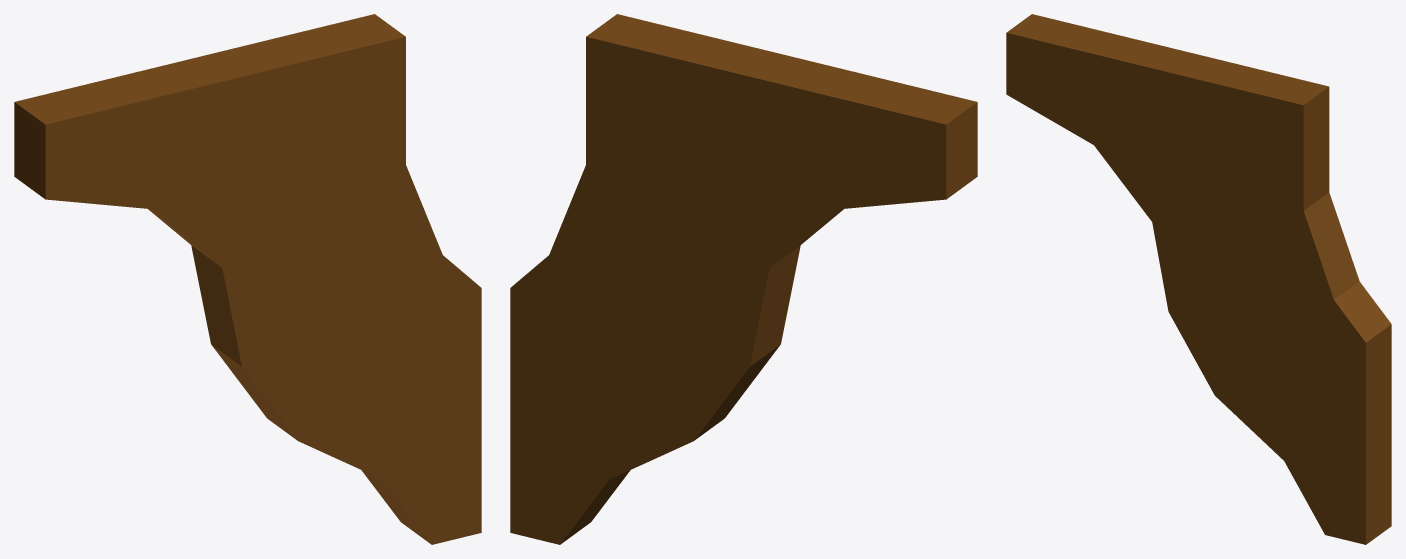
File: Asian_Prop_Building_Modular_Corbel_01.FBX
3 renders of one model, left to right at view 1: azimuth 30°, elevation 25°; view 2: azimuth 150°, elevation 25°; view 3: azimuth 330°, elevation 25°, orthographic. The views are drawn at different scales.
Parts seen in each view (by area): view 1: Asian_Prop_Building_Modular_Corbel_01; view 2: Asian_Prop_Building_Modular_Corbel_01; view 3: Asian_Prop_Building_Modular_Corbel_01.
Part boxes in pixels (<box>): Asian_Prop_Building_Modular_Corbel_01: <box>14,14,481,544</box>; Asian_Prop_Building_Modular_Corbel_01: <box>510,14,977,544</box>; Asian_Prop_Building_Modular_Corbel_01: <box>1006,14,1391,544</box>.
Bounding box in the file's own units: 704 × 794 × 87.
